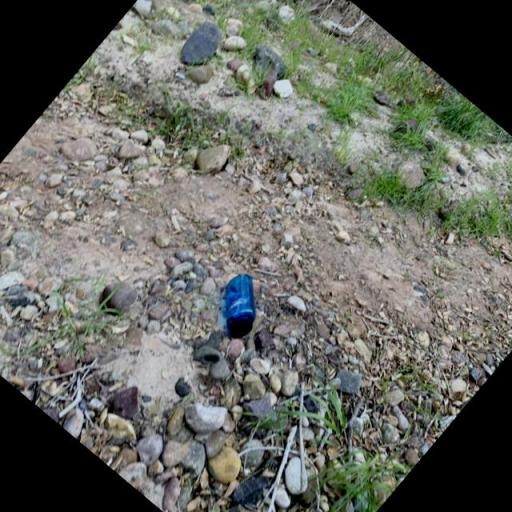bottle: (203, 268, 277, 342)
